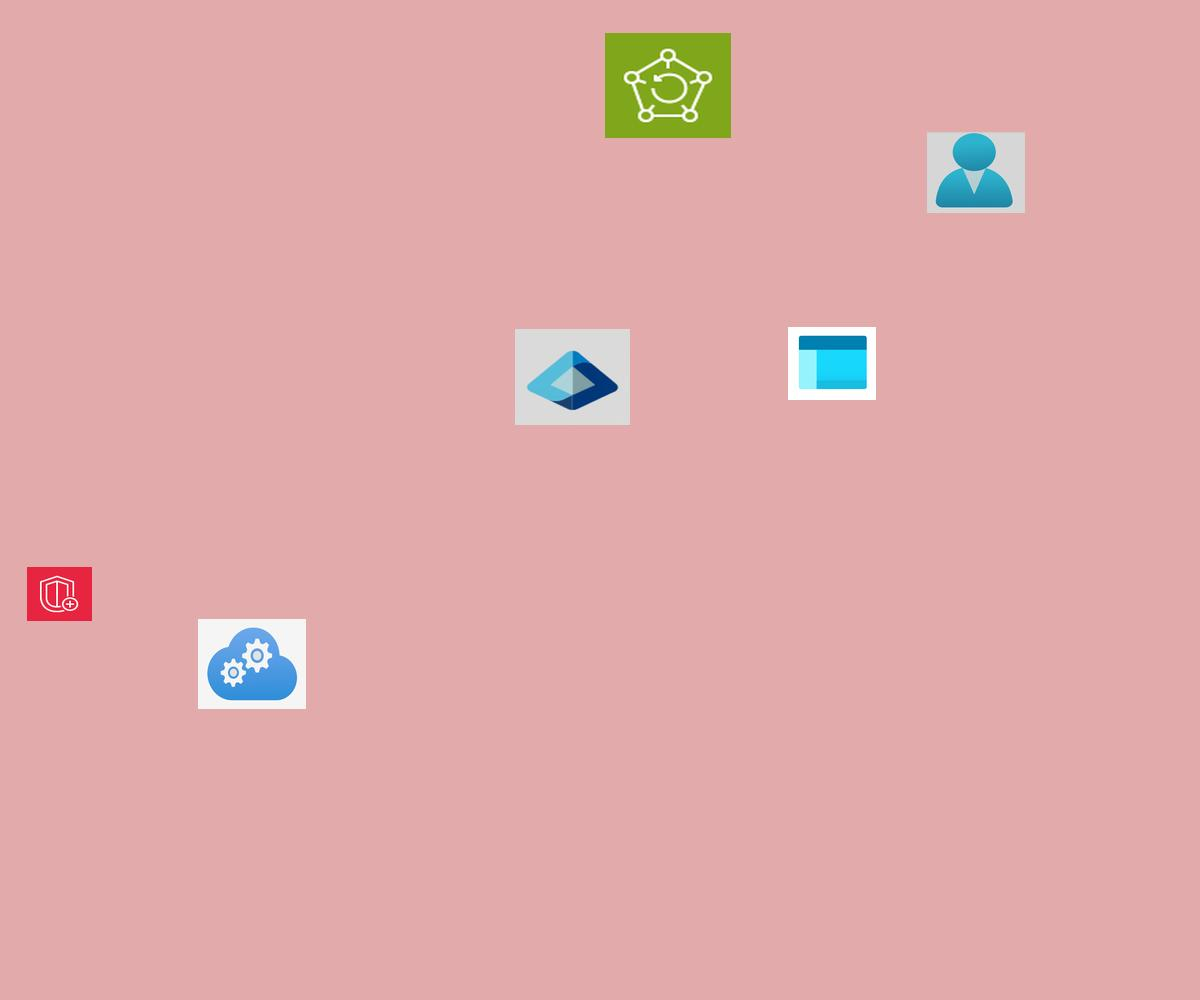AWS-Backup: (605, 33, 731, 138)
AWS-Shield: (27, 567, 92, 621)
Azure_cloud_services: (198, 619, 306, 709)
Azure_management-portal: (788, 327, 876, 400)
Azure_microsoft_entra: (515, 329, 630, 425)
Azure_users: (927, 132, 1025, 213)
